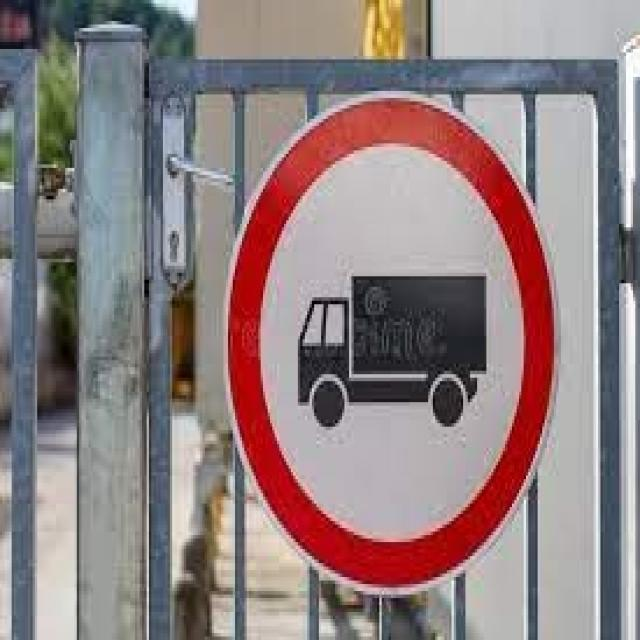do_not_enter: (221, 102, 561, 599)
